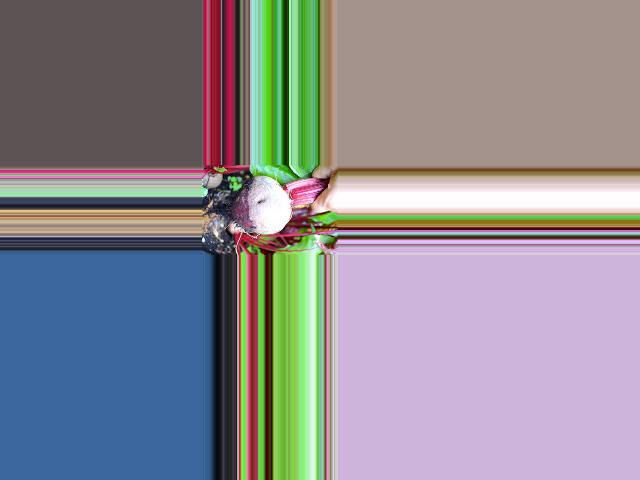beet: (201, 176, 329, 235)
